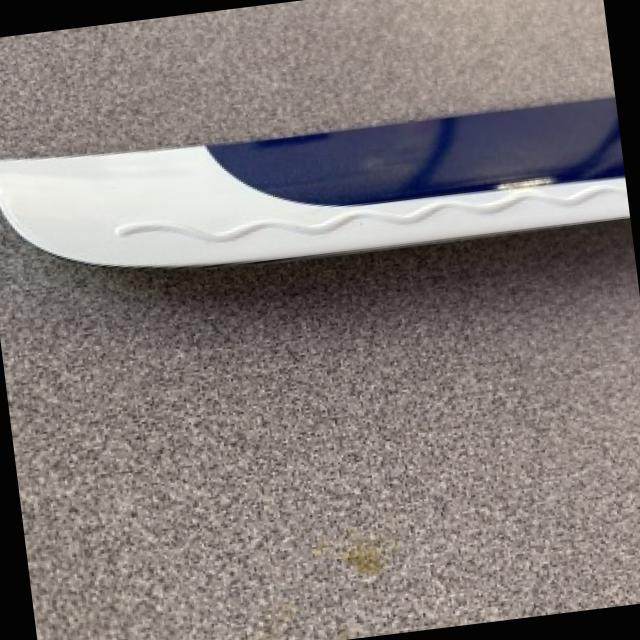healthy: (0, 97, 627, 265)
